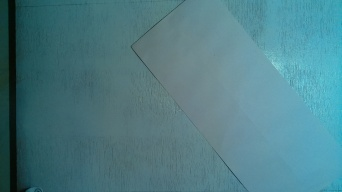l: (125, 1, 334, 192)
